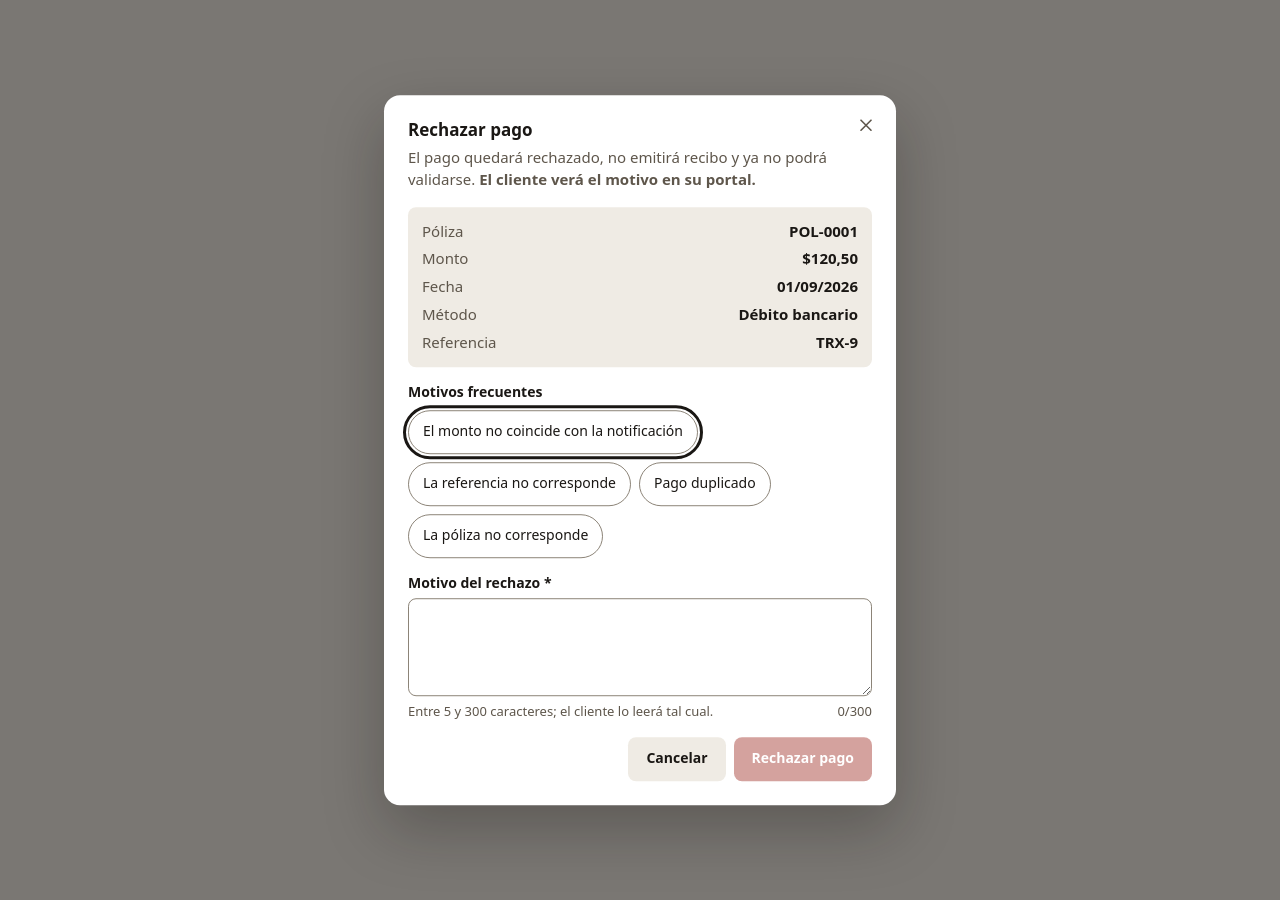
Test case: RechazarPagoDialog (HU-19, D10) › con menos de 5 caracteres sigue deshabilitado y lo explica
In the text box labelled "Motivo del rechazo *": [640, 647] box [408,598,872,696], type "abc"
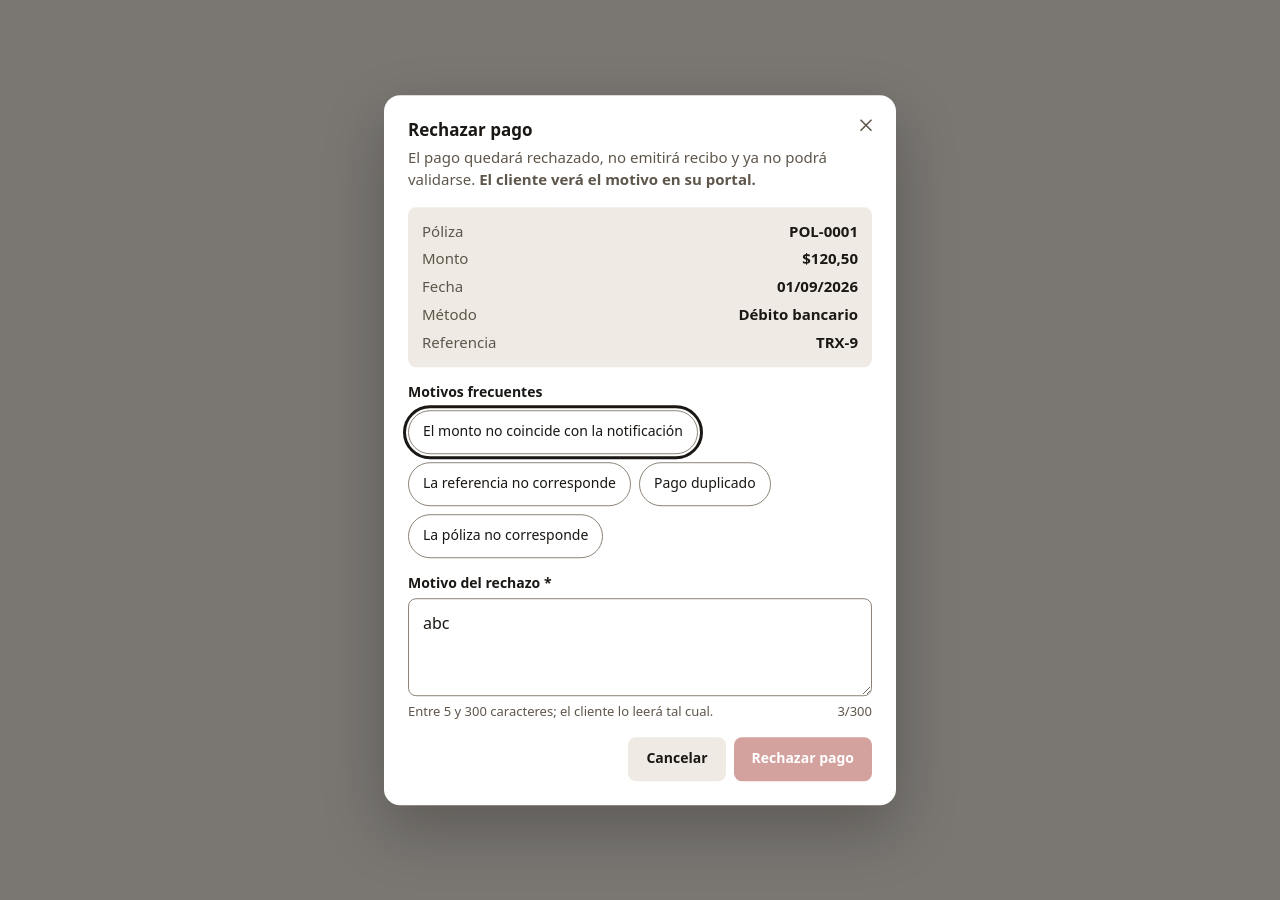
Expected: the button with test id "confirmar-rechazar" is disabled, [734,737,872,781]
Expected: the text "3/300" is shown, [837,702,872,721]
